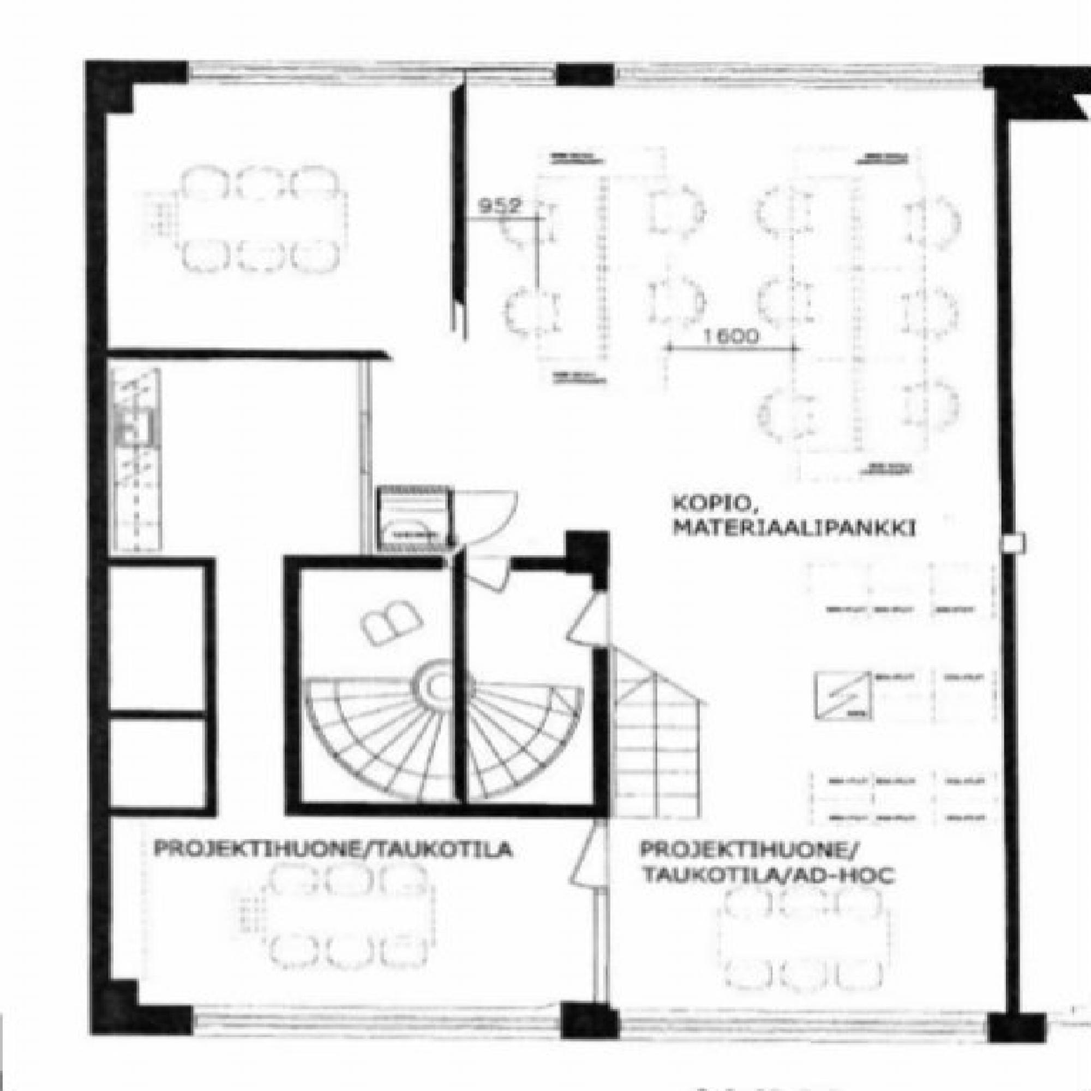wall: (92, 1011, 1044, 1042), (92, 62, 1009, 86), (92, 62, 111, 1042), (995, 62, 1009, 1011), (593, 558, 607, 1043), (92, 351, 582, 359), (285, 558, 608, 570), (285, 804, 594, 816), (285, 558, 299, 816), (573, 62, 582, 360), (205, 558, 215, 816), (92, 807, 215, 816), (567, 531, 607, 558), (92, 712, 215, 720), (111, 558, 215, 566), (110, 981, 134, 1011), (111, 86, 133, 113)
